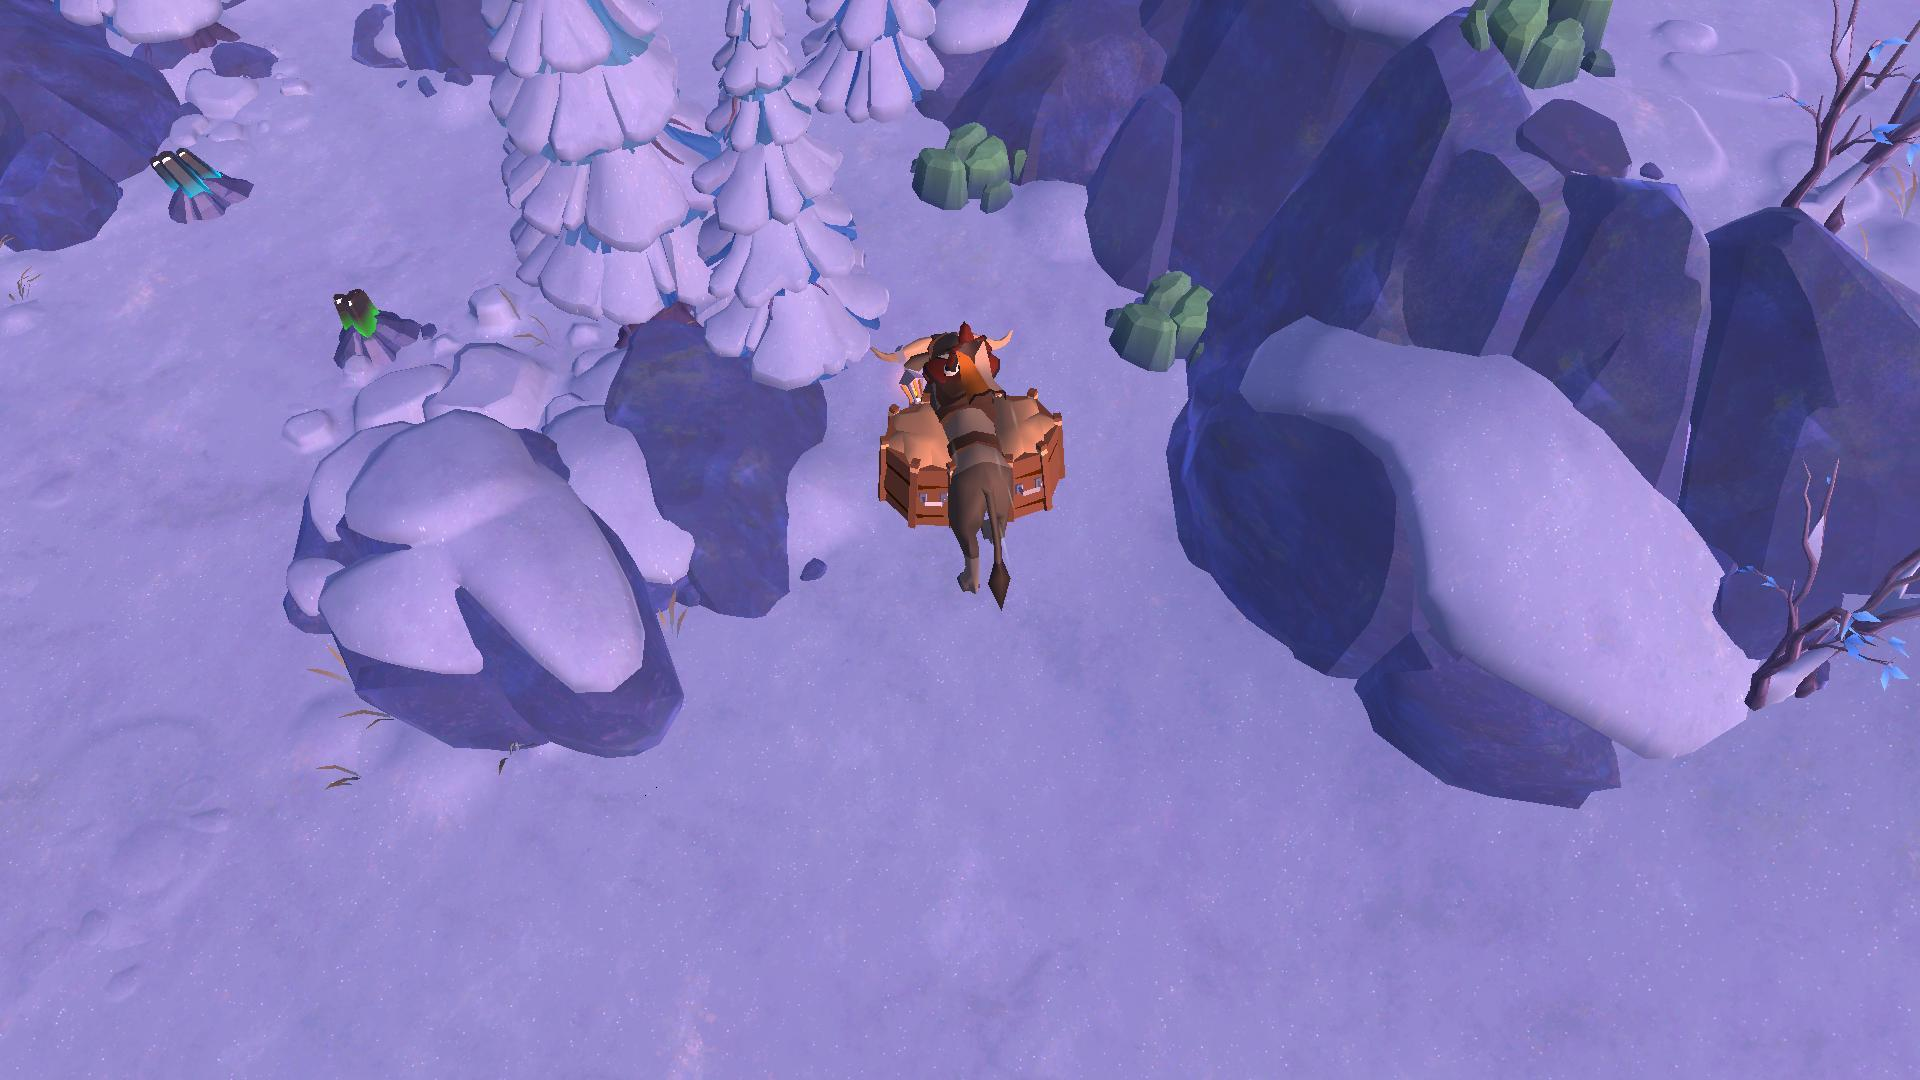ore_t3: (330, 278, 378, 340)
ore_t4: (149, 138, 216, 200)
rock_t3: (1432, 0, 1623, 90), (1097, 261, 1220, 376), (906, 104, 1023, 216)
